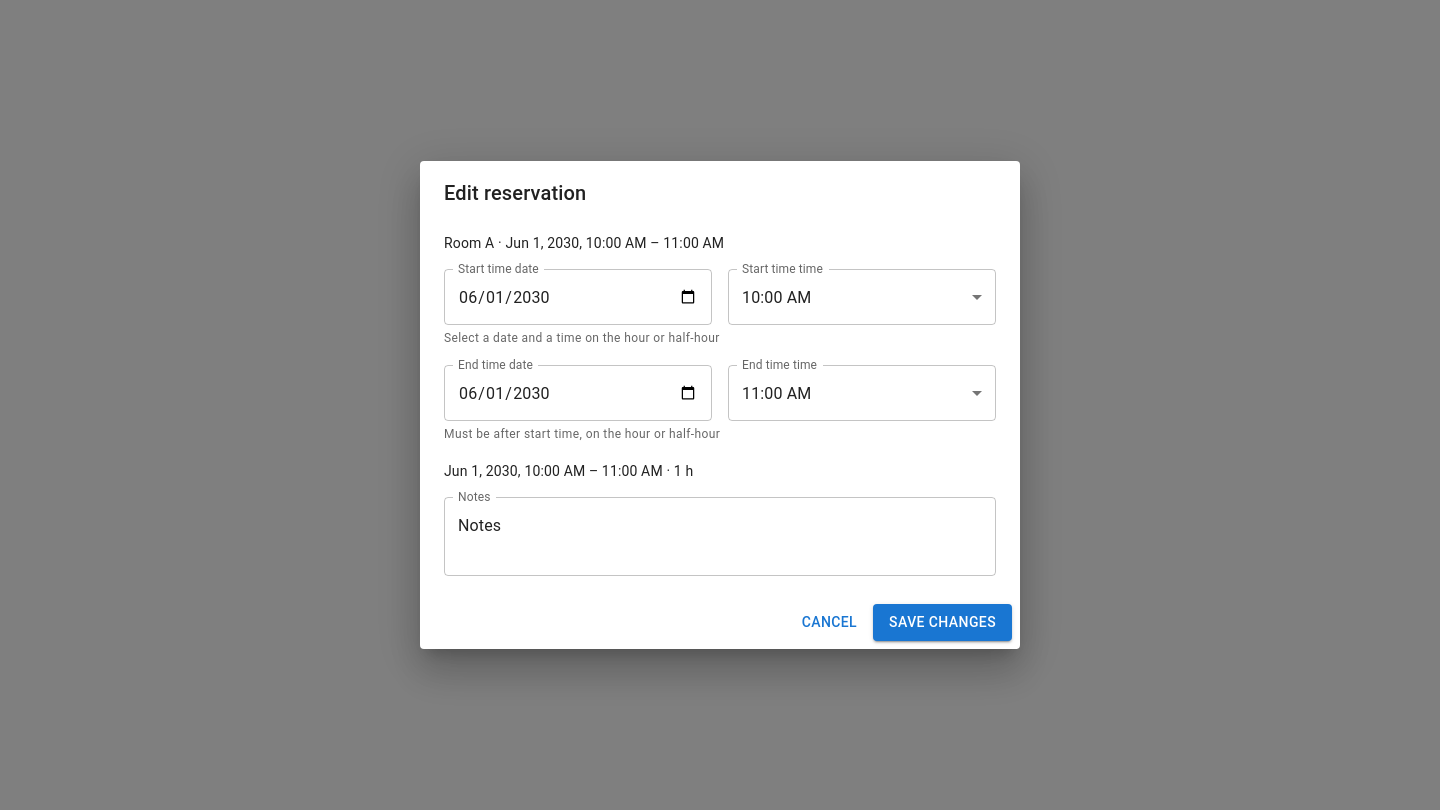
Test case: ReservationEditDialog › shows error when not signed in
This screenshot has width=1440, height=810.
Click the button "Save changes" at (943, 622), box x1=873 y1=604 x2=1012 y2=641
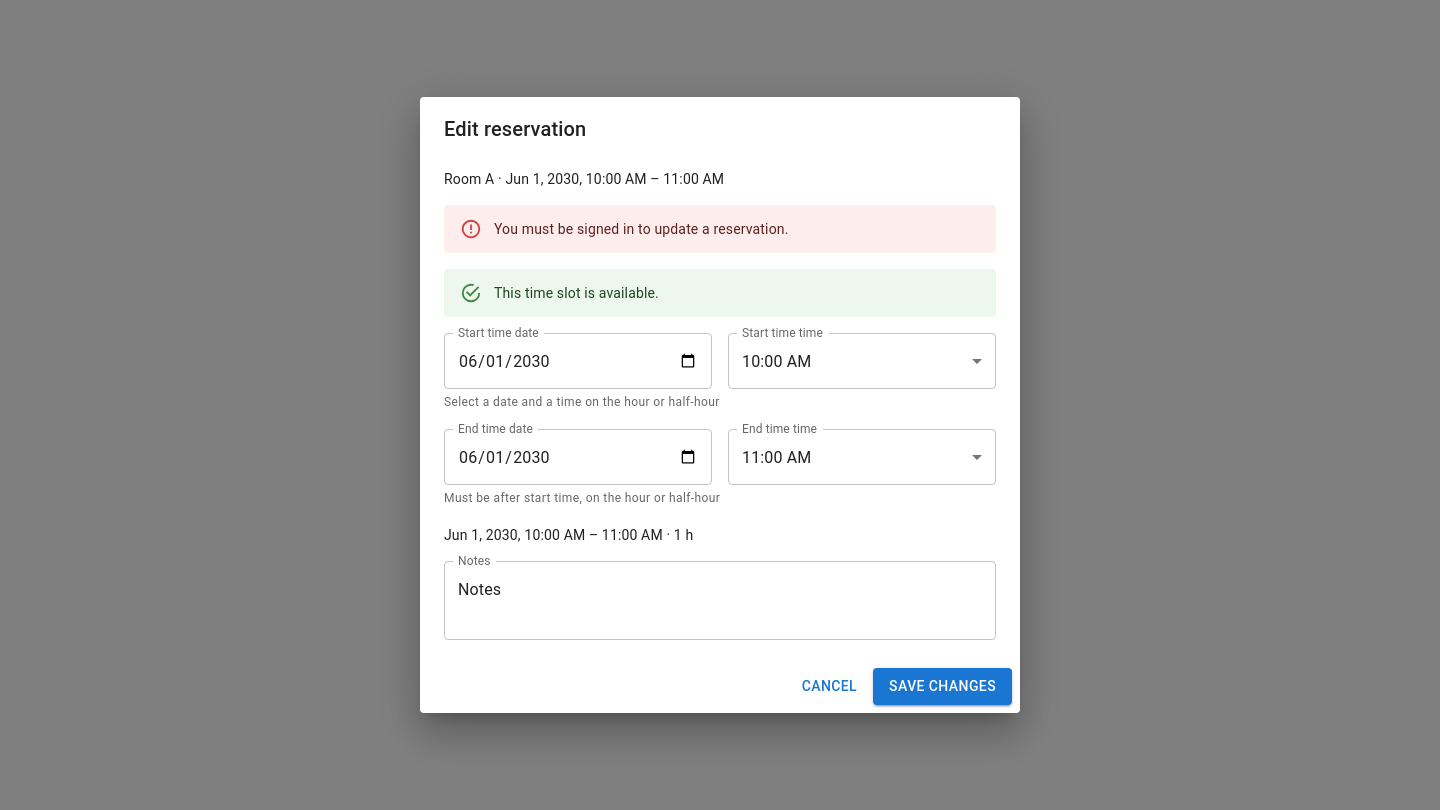
Check: the text "You must be signed in to update a reservation." is shown, box x1=494 y1=221 x2=788 y2=237
